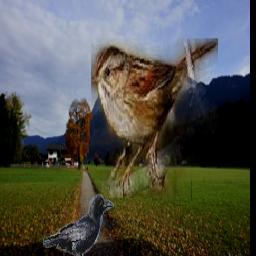Crow: (42, 194, 113, 256)
Sparrow: (90, 40, 217, 199)
